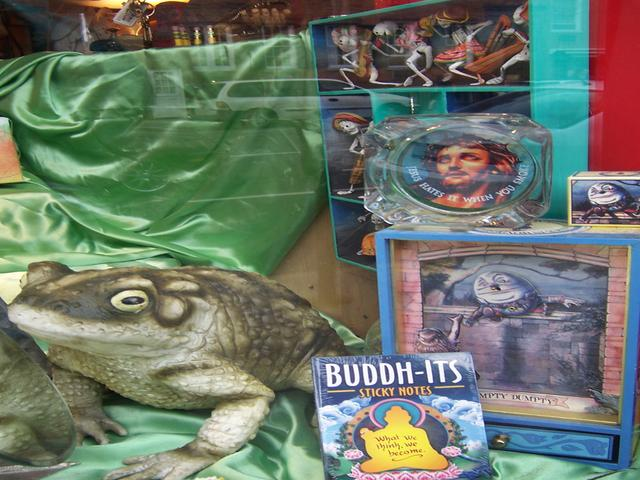frog: (4, 209, 349, 443)
